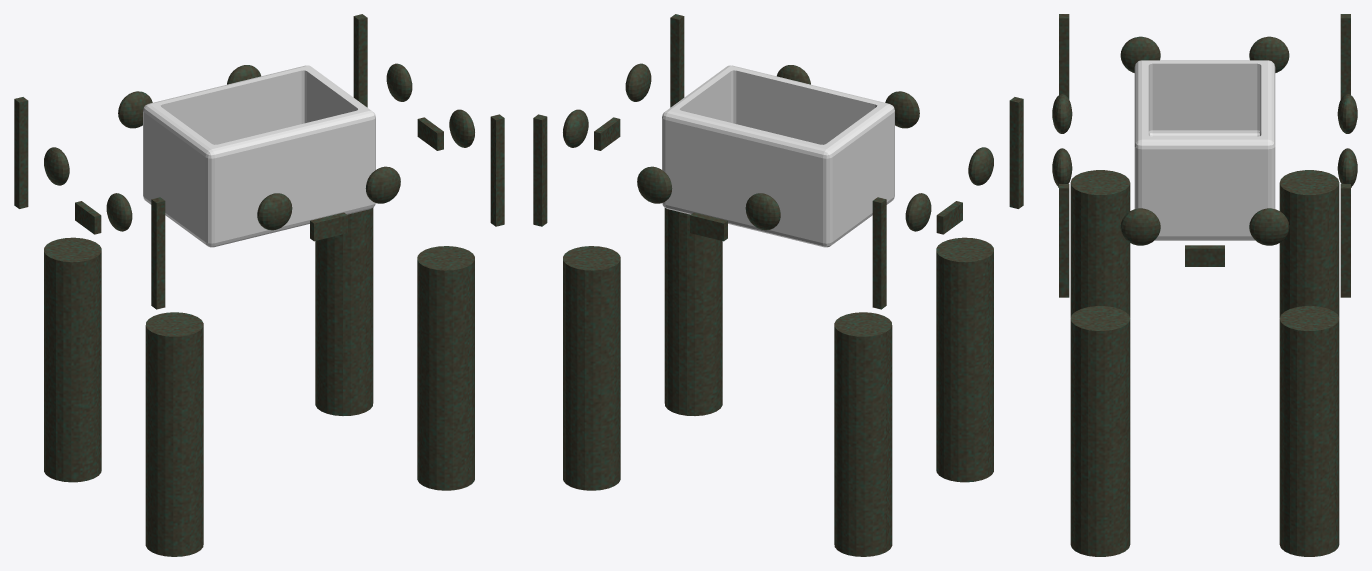
File: bronze-fangding.glb
3 renders of one model, left to right at view 1: azimuth 30°, elevation 25°; view 2: azimuth 150°, elevation 25°; view 3: azimuth 270°, elevation 25°, orthographic. The views are drawn at different scales.
Parts seen in each view (by area): view 1: Cube.008; view 2: Cube.008; view 3: Cube.008.
Part boxes in pixels (x1,y1,x2,y2): Cube.008: [14, 14, 504, 556]; Cube.008: [533, 14, 1023, 556]; Cube.008: [1052, 14, 1357, 556].
Bounding box in the file's own units: 1.06 × 1.03 × 0.76.
Materials: 1 (1 with a texture image).
